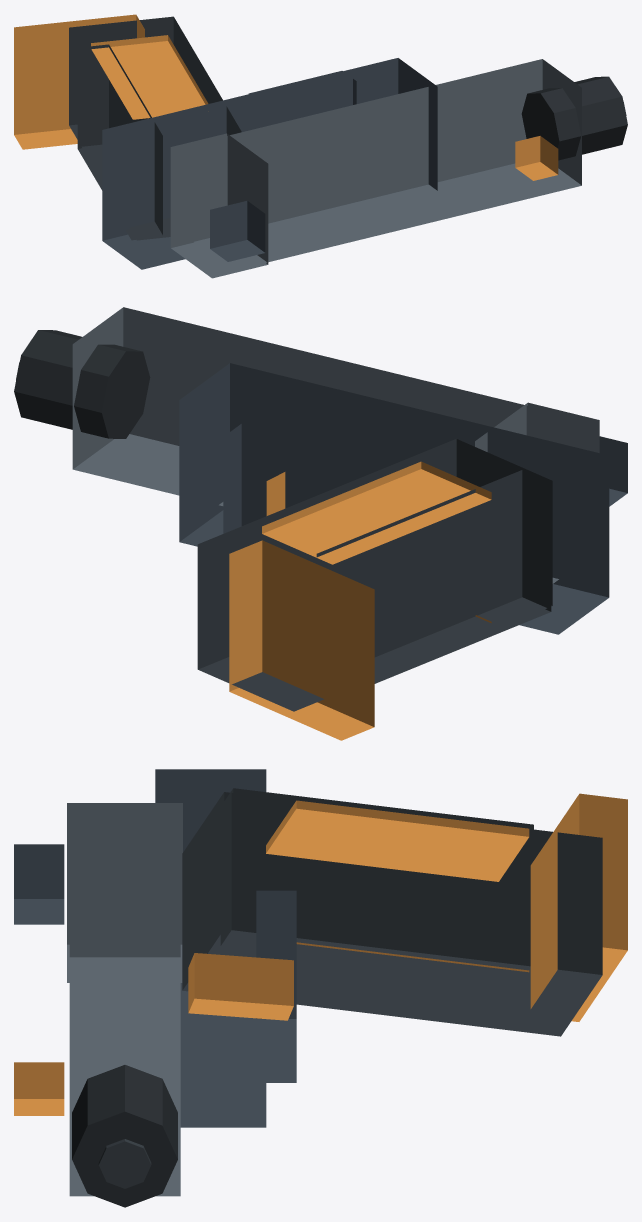
File: pistol.glb
The picture shows the model from 3 angles, top to bottom: view 1: azimuth 30°, elevation 25°; view 2: azimuth 150°, elevation 25°; view 3: azimuth 270°, elevation 25°; orthographic projection. The views are drawn at different scales.
Visible parts, largest first — view 1: LowPolyPistol; view 2: LowPolyPistol; view 3: LowPolyPistol.
Part boxes in pixels (x1,y1,x2,y2): LowPolyPistol: (14,14,627,278); LowPolyPistol: (14,307,627,740); LowPolyPistol: (14,769,627,1207).
Bounding box in the file's own units: 1.49 × 0.34 × 1.22.
